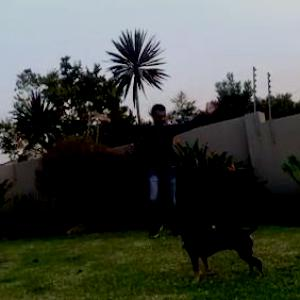takeoff: (86, 104, 210, 232)
